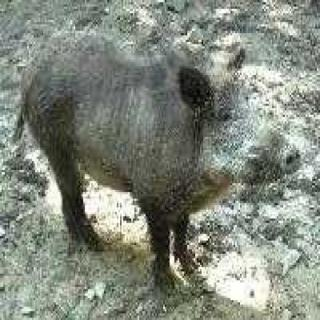Pig: (13, 18, 312, 296)
